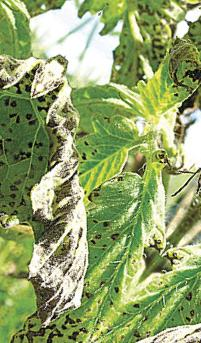Tomato Septoria leaf spot: (0, 0, 201, 322), (0, 145, 201, 343), (0, 205, 43, 318)
